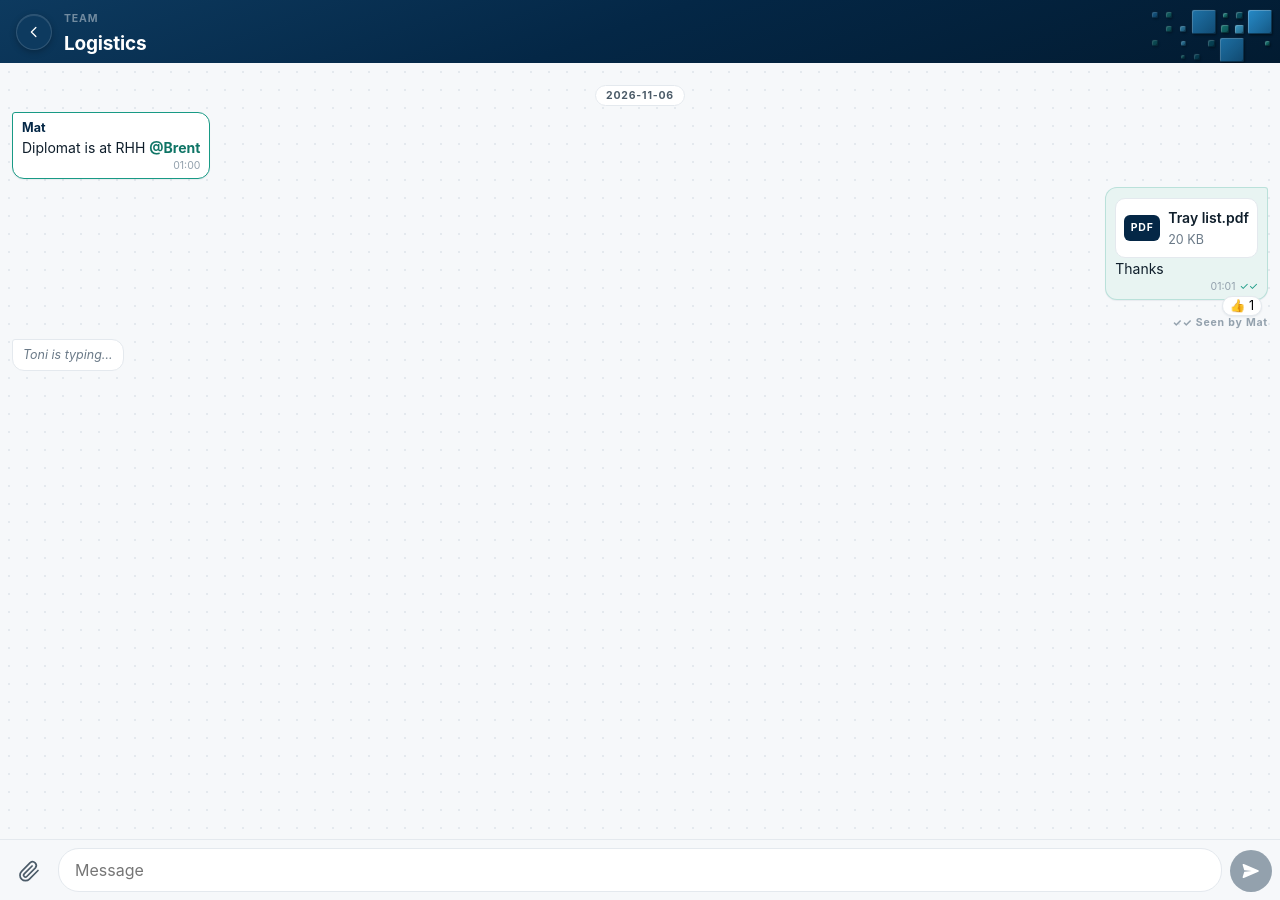
the WhatsApp and Slack parts › replies to a message, quoting it
Later steps or results of the test are not shown.
What coordinates should you click on to do the following:
click the text "Diplomat is at RHH @Brent"
I would click on:
 (111, 148)
Its box is [22,137,200,158].
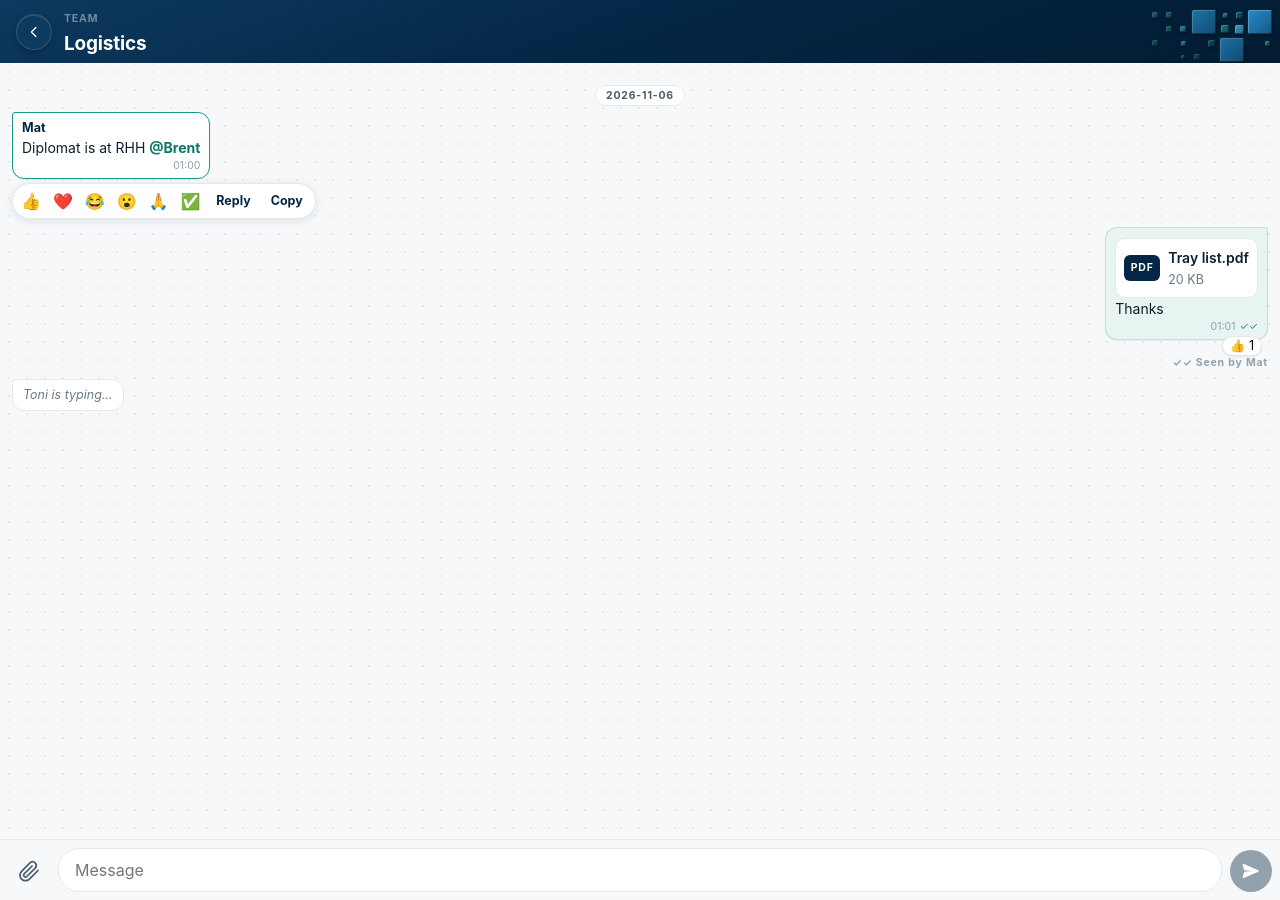
What coordinates should you click on to do the following:
click the button "Reply"
I would click on:
 (234, 201)
Its box is [208,188,259,214].
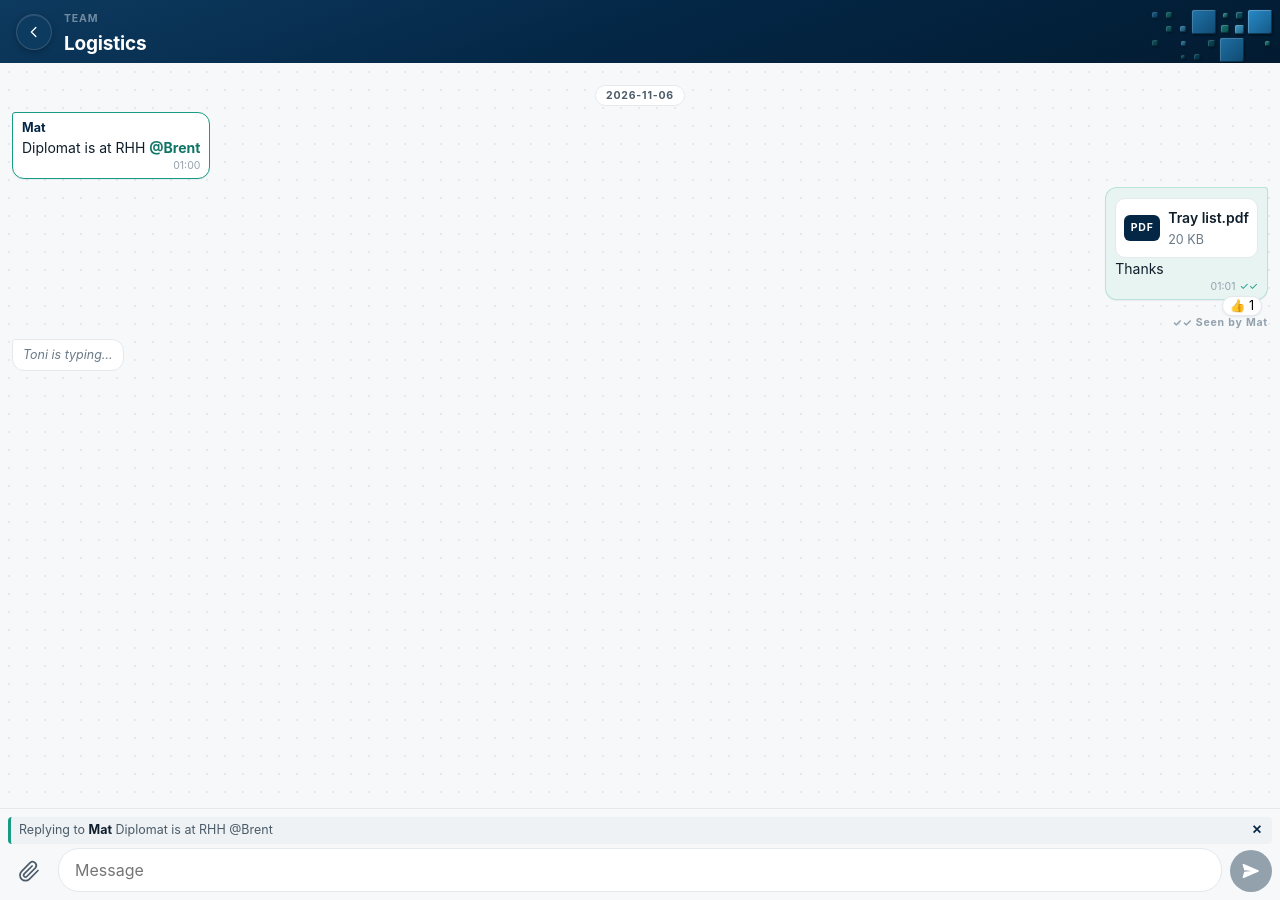
Expected: the text "Replying to Mat Diplomat is at RHH @Brent" is shown, [19,822,273,838]
